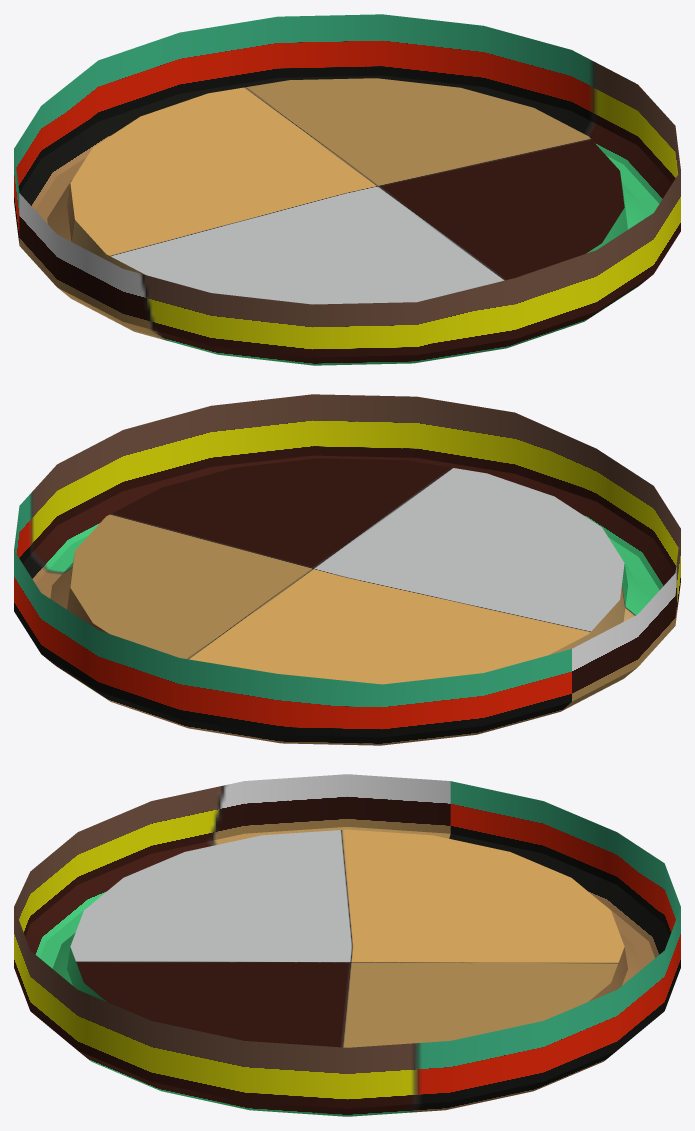
The model's file is New Light Week 2.fbx.
The picture shows the model from 3 angles, top to bottom: view 1: azimuth 30°, elevation 25°; view 2: azimuth 150°, elevation 25°; view 3: azimuth 270°, elevation 25°; orthographic projection.
Parts seen in each view (by area): view 1: pCylinder3; view 2: pCylinder3; view 3: pCylinder3.
Boxes of the visible parts, x1=… form: pCylinder3: x1=14, y1=14, x2=680, y2=365; pCylinder3: x1=14, y1=394, x2=680, y2=745; pCylinder3: x1=14, y1=774, x2=680, y2=1116.
Size of the model in its own units: 30.17 by 3.81 by 30.17.
